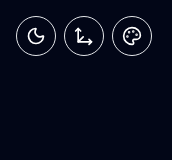
requests phone motion from an explicit user action
The image size is (172, 160).
What coordinates should you click on to do the following:
click the button named "Enable phone motion"
I would click on:
 (84, 36)
Its box is [64, 16, 104, 56].
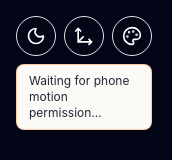
Now the message shows "Waiting for phone motion permission", box [29, 73, 129, 120]
